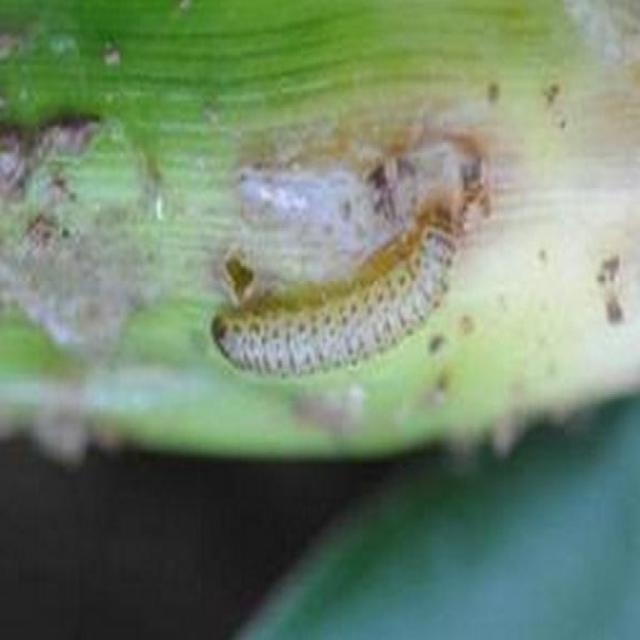peach borer: (206, 205, 461, 385)
